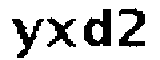2: (116, 7, 148, 53)
d: (79, 6, 114, 53)
x: (45, 14, 80, 52)
y: (8, 15, 44, 60)
